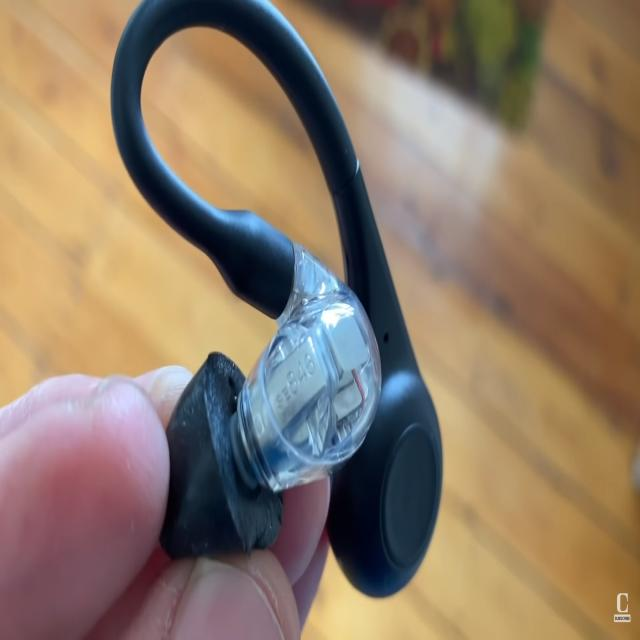airpods: (110, 0, 444, 600)
